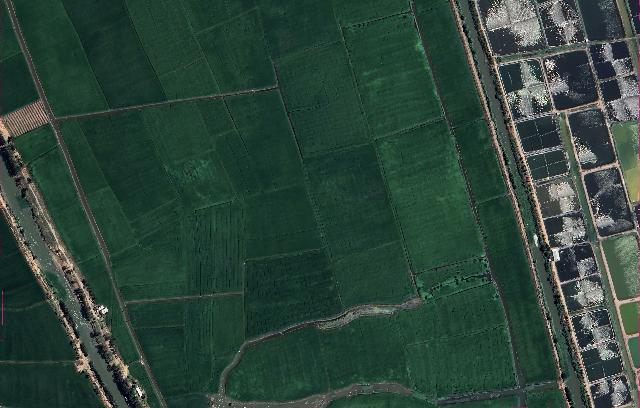Farms: (138, 87, 309, 214), (376, 119, 486, 273), (78, 107, 184, 245), (344, 12, 448, 146), (113, 198, 244, 302), (396, 282, 513, 394), (271, 39, 373, 157), (303, 142, 403, 261), (61, 0, 166, 112), (13, 0, 109, 119), (242, 252, 347, 342), (197, 8, 278, 94), (244, 181, 329, 261), (124, 0, 204, 77), (56, 117, 108, 197), (86, 185, 140, 256), (156, 62, 222, 101)
